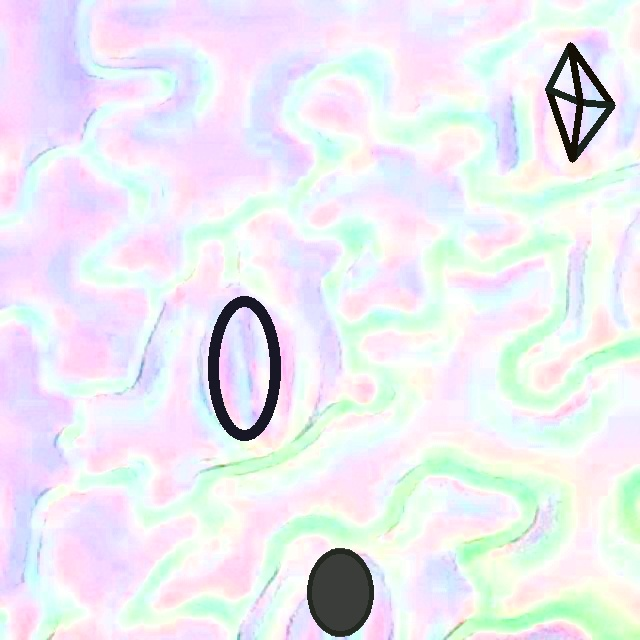open: (208, 296, 280, 440), (545, 42, 615, 162), (307, 548, 373, 637)
